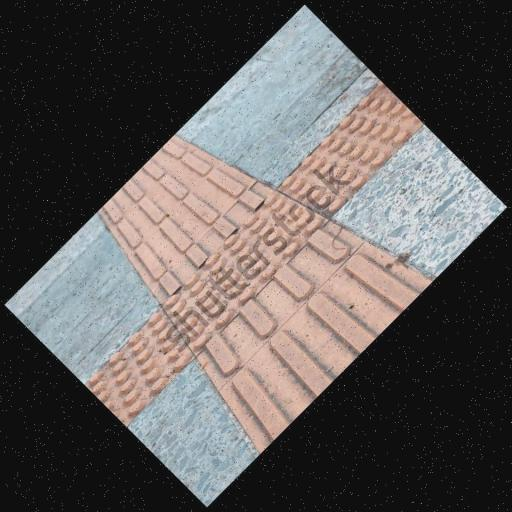dot: (277, 80, 423, 218), (84, 309, 193, 427)
line: (218, 243, 433, 455), (192, 221, 361, 391), (107, 146, 256, 287), (149, 180, 274, 304)
